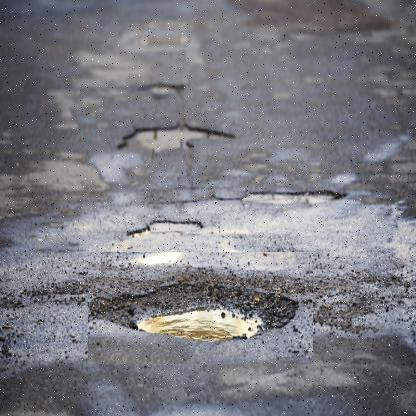pothole: (103, 106, 243, 168), (224, 176, 355, 220), (111, 201, 212, 245)
pothole_water: (88, 252, 314, 365)
